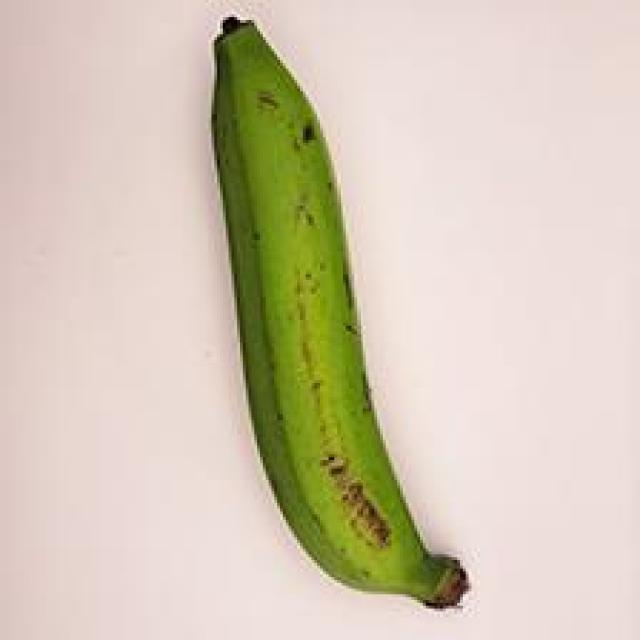Raw: (169, 7, 493, 625)
